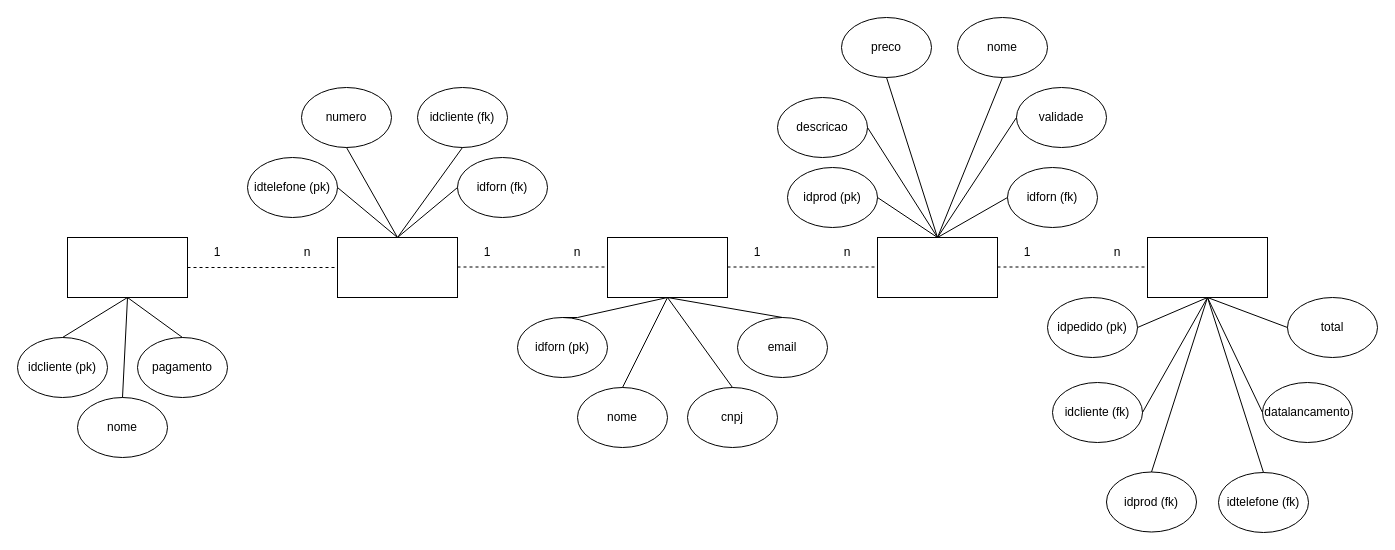
This 1395x550 diagram has some shape labels left out. Each missing label, with the centre of its shape:
"clientes" belongs at (x=127, y=267).
"fornecedores" belongs at (x=667, y=267).
"pedidos" belongs at (x=1207, y=267).
"produtos" belongs at (x=937, y=267).
"telefone" belongs at (x=397, y=267).
